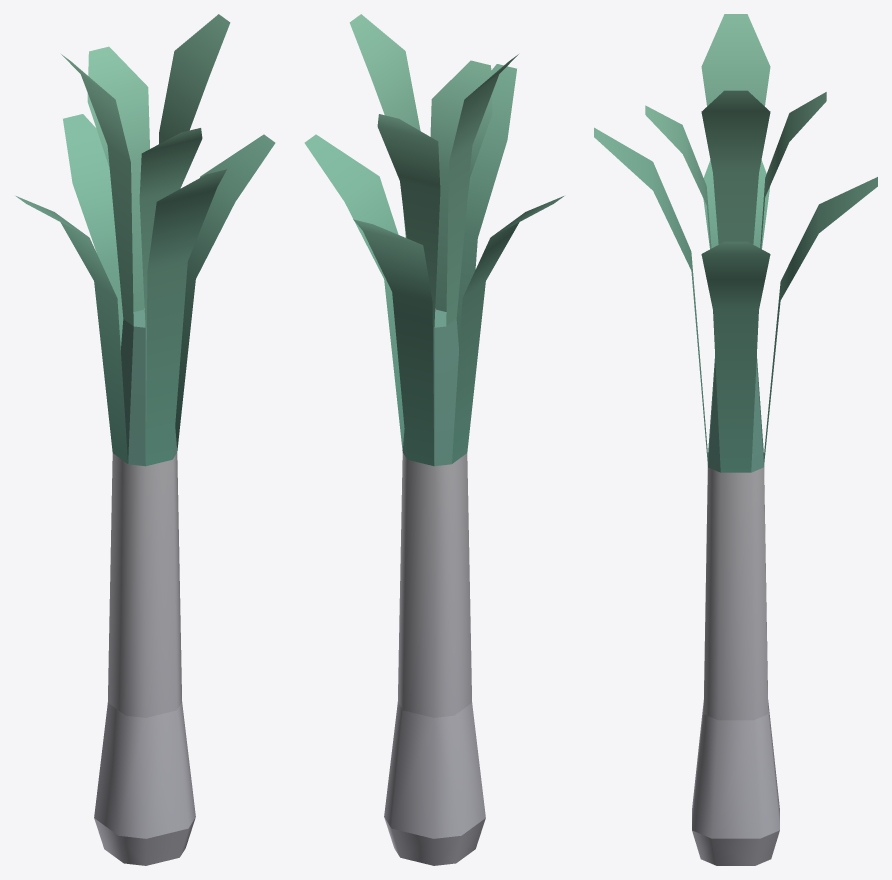
Rendered from leek.glb.
3 renders of one model, left to right at view 1: azimuth 30°, elevation 25°; view 2: azimuth 150°, elevation 25°; view 3: azimuth 270°, elevation 25°, orthographic.
Parts seen in each view (by area): view 1: leek; view 2: leek; view 3: leek.
Part boxes in pixels (bbox=[...]): leek: bbox=[16, 14, 275, 865]; leek: bbox=[304, 14, 563, 865]; leek: bbox=[594, 14, 877, 865].
Bounding box in the file's own units: 0.2729 × 0.8474 × 0.2729.
